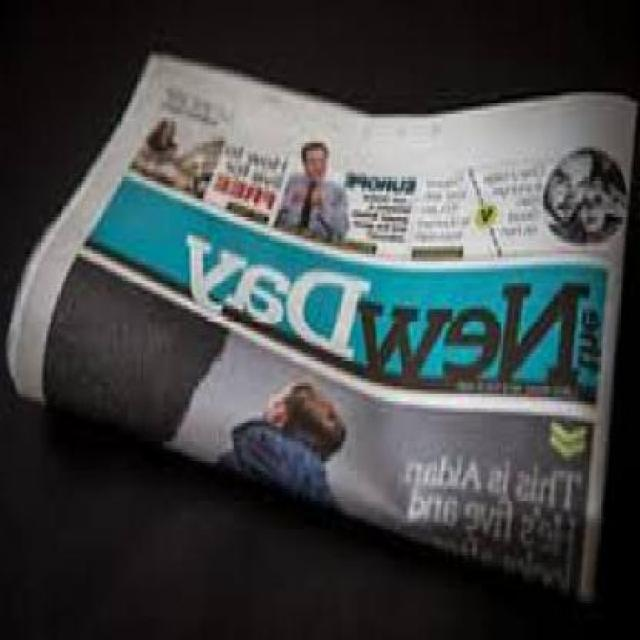PAPER: (11, 48, 638, 597)
